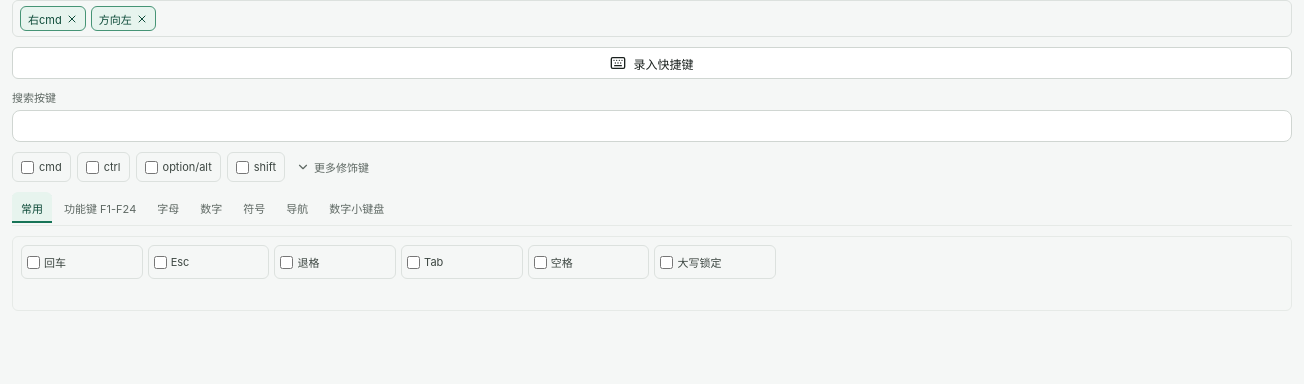
localizes named keys across picker controls and selected chips
Expected: the button with aria-label "移除 右cmd" is shown, x1=20 y1=6 x2=86 y2=31
Expected: the button with aria-label "移除 方向左" is shown, x1=91 y1=6 x2=156 y2=31
Click the button "更多修饰键" at [333, 167], box x1=291 y1=152 x2=374 y2=182
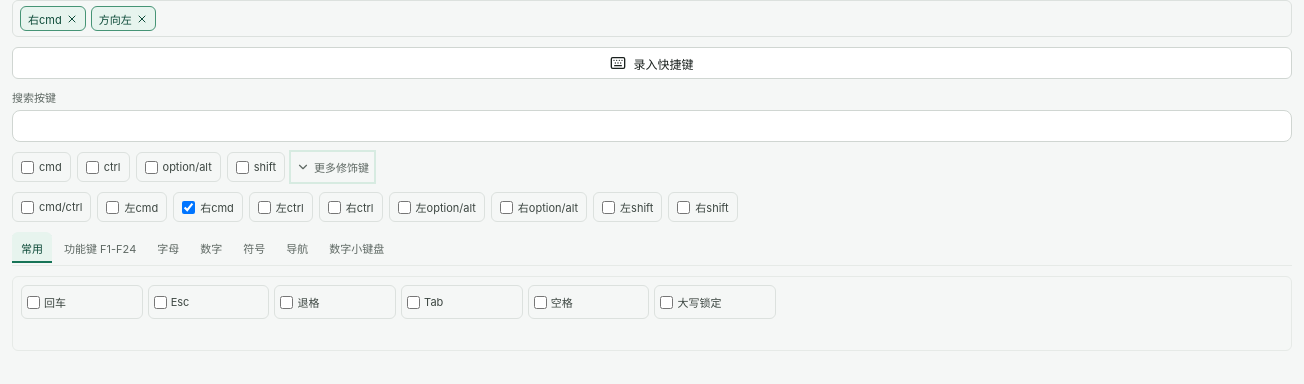
Expected: the checkbox labelled "右cmd" is checked, x1=182 y1=200 x2=195 y2=214
Click the tab "导航" at [297, 248], box x1=277 y1=232 x2=317 y2=263
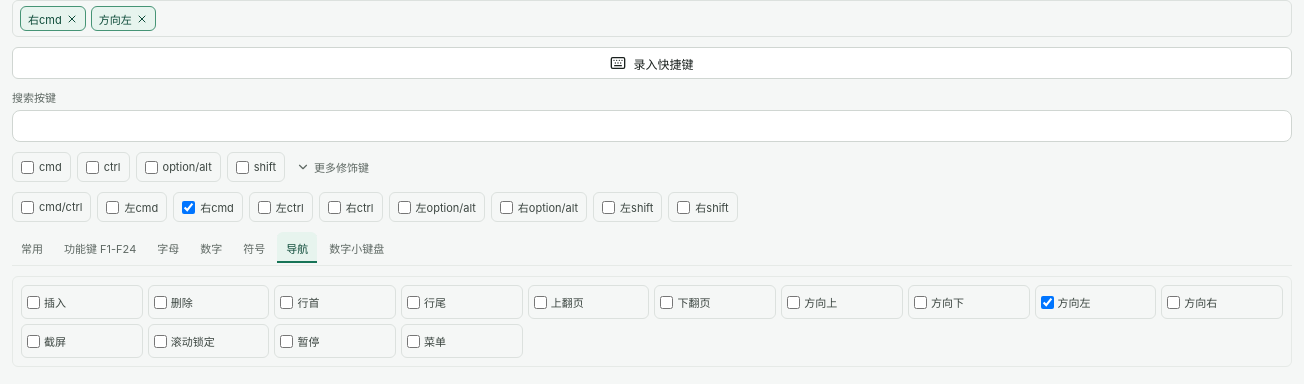
Expected: the checkbox labelled "方向左" is checked, x1=1041 y1=296 x2=1054 y2=308
Expected: the checkbox labelled "方向右" is shown, x1=1167 y1=296 x2=1180 y2=308
